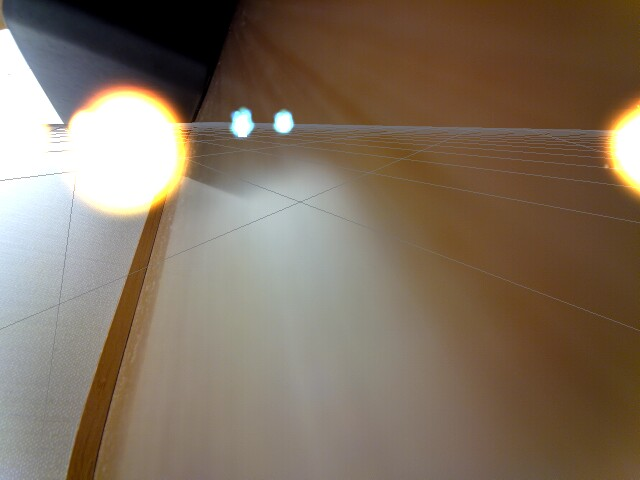firebig: (70, 86, 189, 211)
